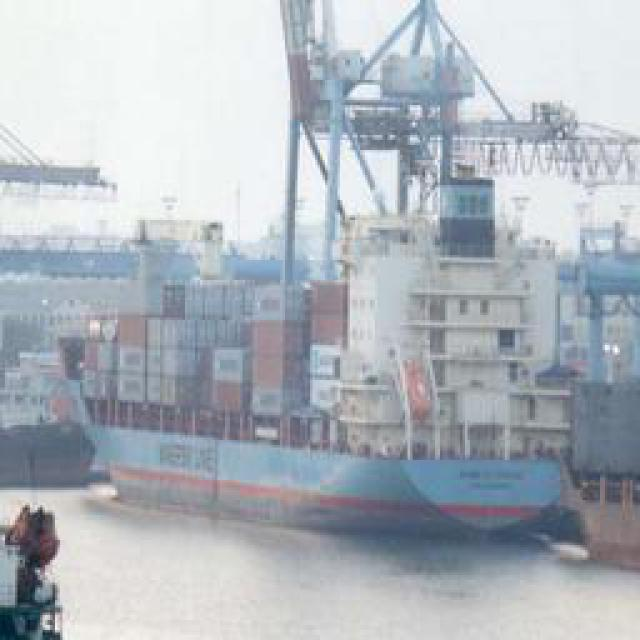Ship: (46, 166, 586, 548)
